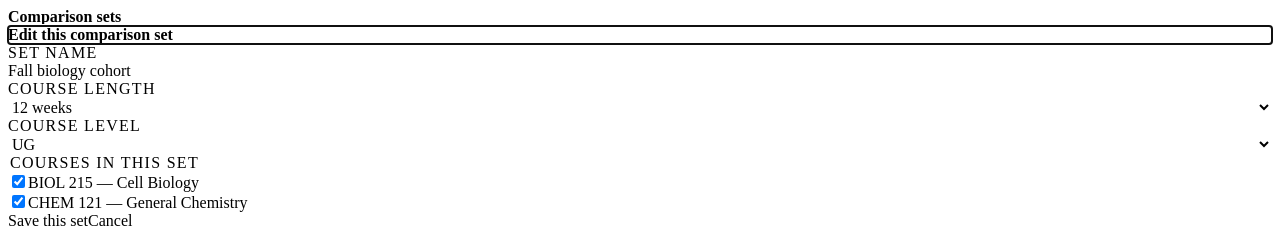
leaving the edit address › puts focus on the list’s heading after a cancel
Click the button "Cancel".
click(110, 221)  # box x1=88 y1=212 x2=132 y2=230
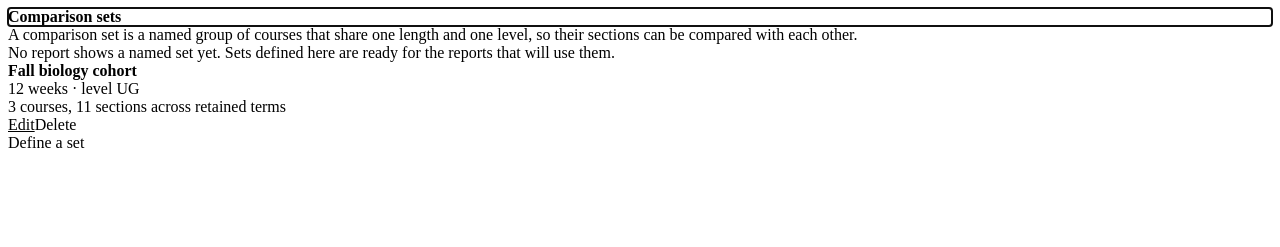
Check: the list with test id "pulse-leadership-set-list" is shown, box x1=8 y1=62 x2=286 y2=134
